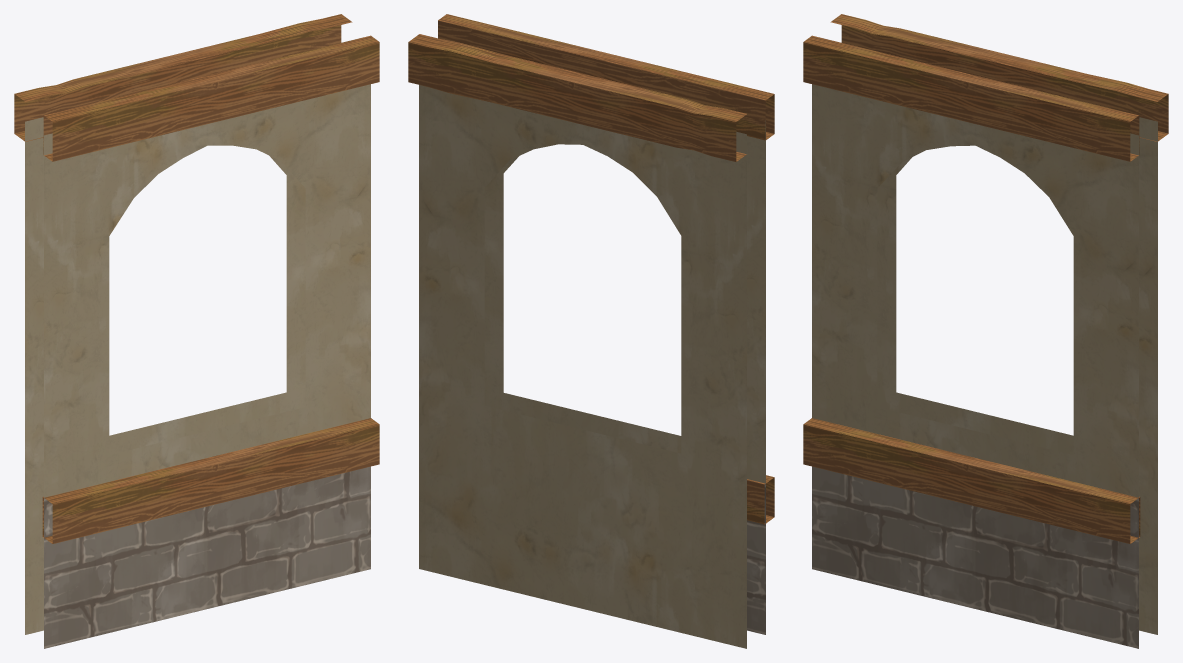
File: Wall_Plaster_Window_Wide_Round.glb
3 renders of one model, left to right at view 1: azimuth 30°, elevation 25°; view 2: azimuth 150°, elevation 25°; view 3: azimuth 330°, elevation 25°, orthographic.
Parts seen in each view (by area): view 1: Wall_Plaster_Window_Wide_Round; view 2: Wall_Plaster_Window_Wide_Round; view 3: Wall_Plaster_Window_Wide_Round.
Boxes of the visible parts, x1,y1,x2,y2 form: Wall_Plaster_Window_Wide_Round: (14, 14, 379, 648); Wall_Plaster_Window_Wide_Round: (408, 14, 774, 648); Wall_Plaster_Window_Wide_Round: (803, 14, 1168, 648).
Bounding box in the file's own units: 2 × 3.12 × 0.4065.
Materials: 3 (3 with a texture image).
